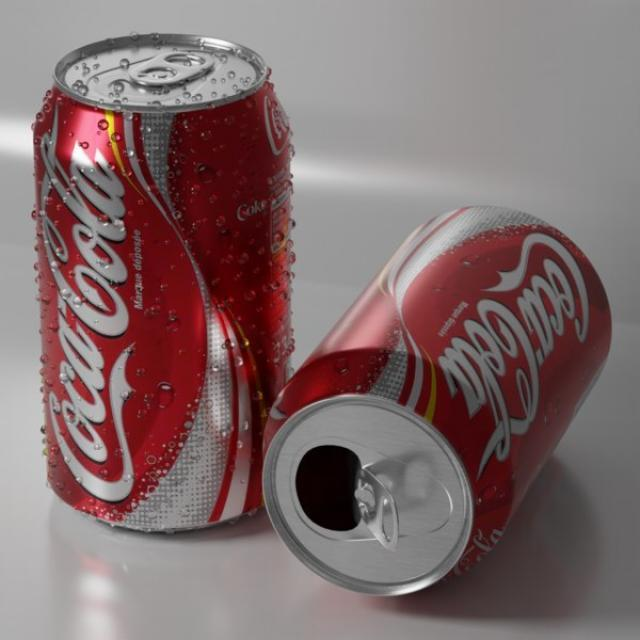coca-cola: (264, 203, 616, 603), (23, 38, 295, 546)
